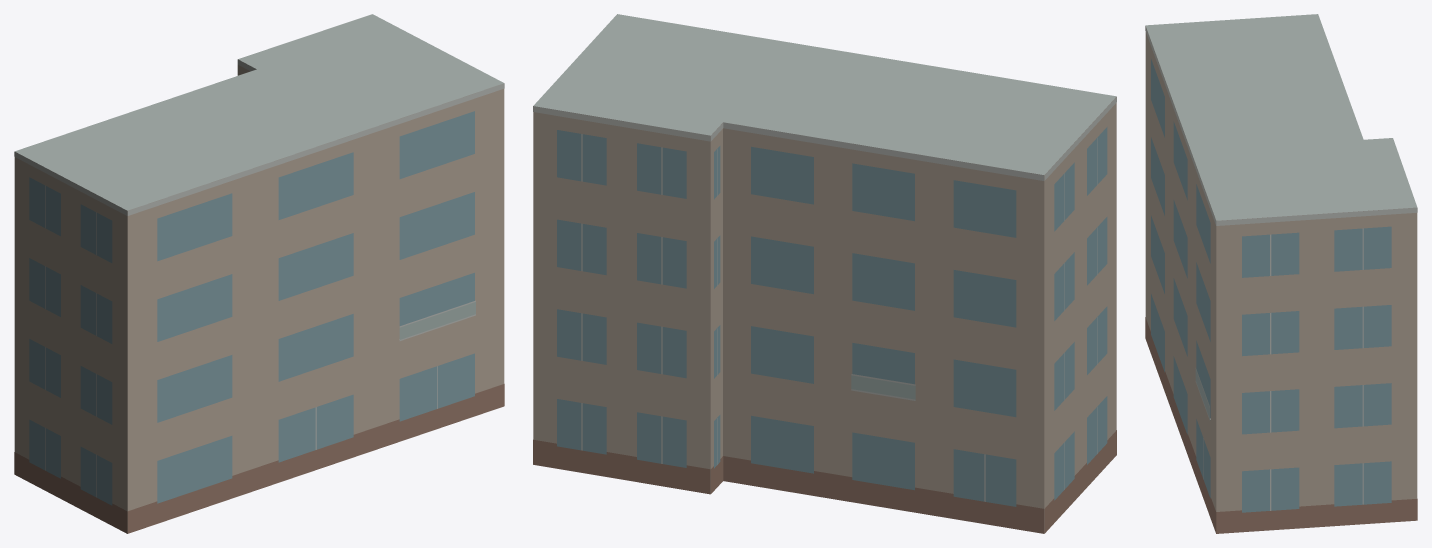
Rendered from survey-upis-32760859.glb.
3 renders of one model, left to right at view 1: azimuth 30°, elevation 25°; view 2: azimuth 150°, elevation 25°; view 3: azimuth 270°, elevation 25°, orthographic. The views are drawn at different scales.
Parts seen in each view (by area): view 1: survey-upis-32760859.tmp; view 2: survey-upis-32760859.tmp; view 3: survey-upis-32760859.tmp.
Part boxes in pixels (x1=…): survey-upis-32760859.tmp: x1=14, y1=14, x2=504, y2=533; survey-upis-32760859.tmp: x1=533, y1=14, x2=1116, y2=533; survey-upis-32760859.tmp: x1=1145, y1=14, x2=1417, y2=533.
Size of the model in its own units: 20.69 by 14.6 by 11.51.
